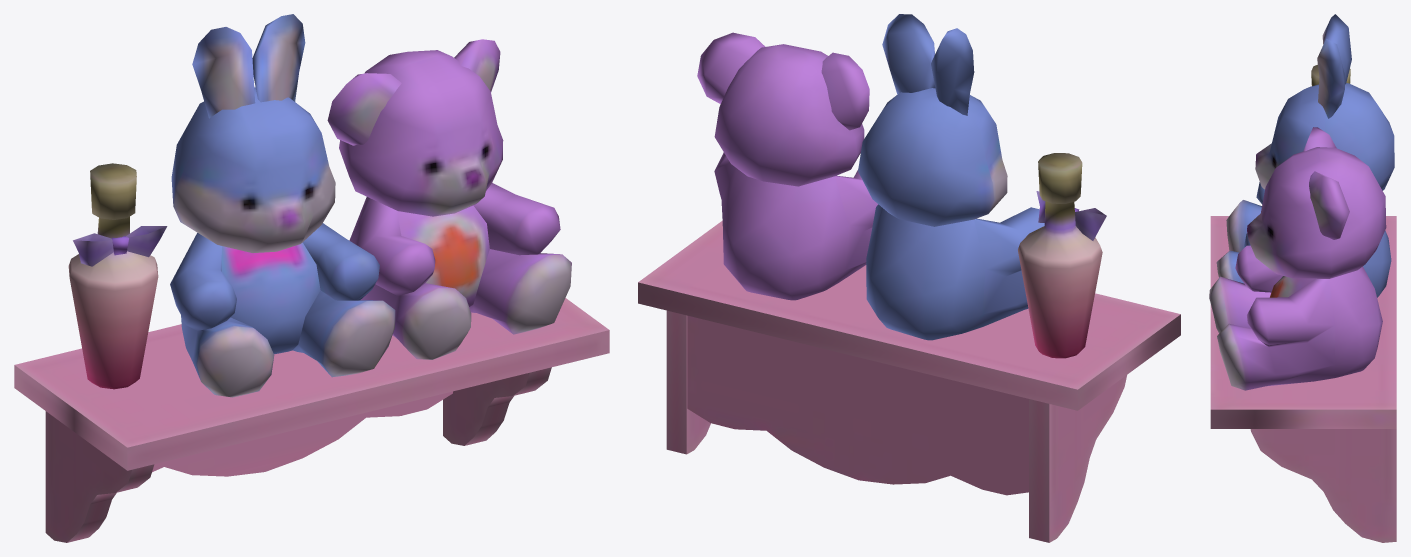
3 views of the same model, side by side, from view 1: azimuth 30°, elevation 25°; view 2: azimuth 150°, elevation 25°; view 3: azimuth 270°, elevation 25° (orthographic). The views are drawn at different scales.
Size of the model in its own units: 10 by 9.96 by 4.09.
1 material, 1 textured.
